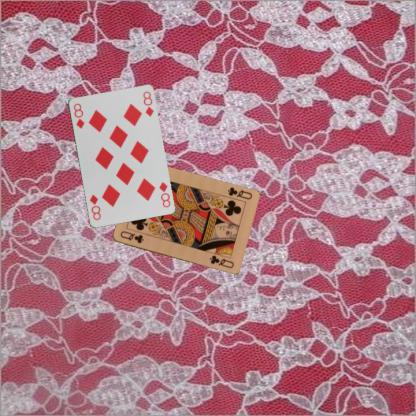8d: (156, 179, 172, 209), (70, 101, 86, 130)
Qc: (225, 184, 253, 201), (118, 229, 144, 245)
